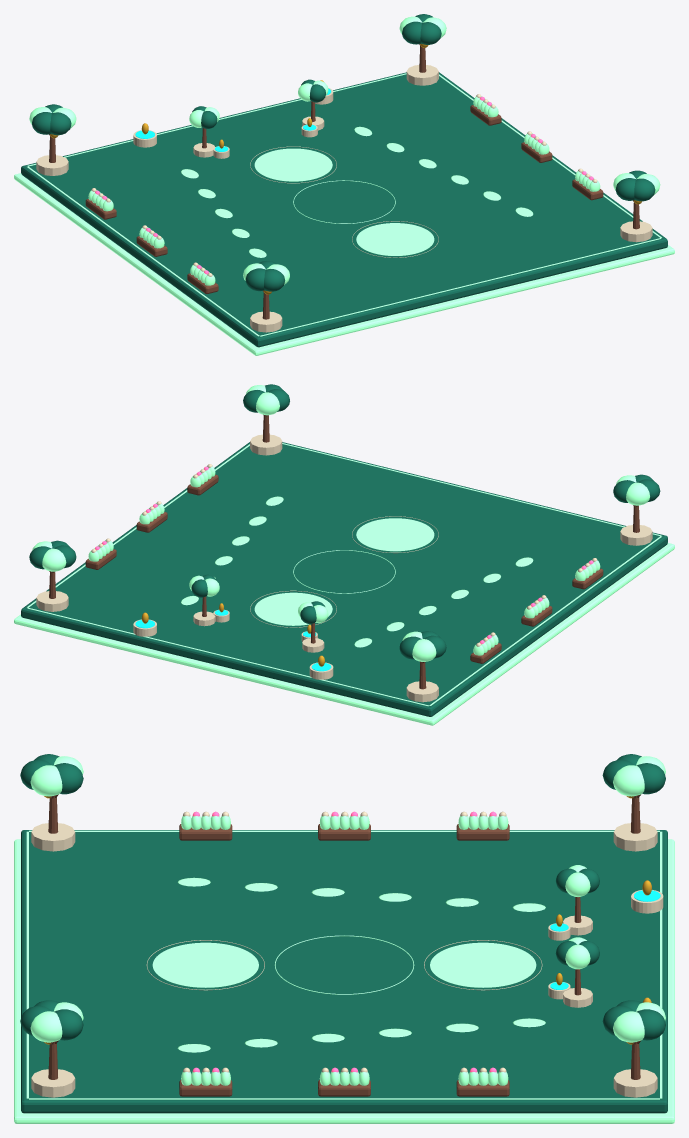
File: healing.glb
3 renders of one model, top to bottom at view 1: azimuth 30°, elevation 25°; view 2: azimuth 150°, elevation 25°; view 3: azimuth 270°, elevation 25°, orthographic. The views are drawn at different scales.
Parts seen in each view (by area): view 1: Gym_healing; view 2: Gym_healing; view 3: Gym_healing.
Part boxes in pixels (bbox=[...]): Gym_healing: bbox=[14, 14, 674, 355]; Gym_healing: bbox=[14, 384, 674, 725]; Gym_healing: bbox=[14, 754, 674, 1123].
Bounding box in the file's own units: 28.6 × 4.81 × 28.6.
